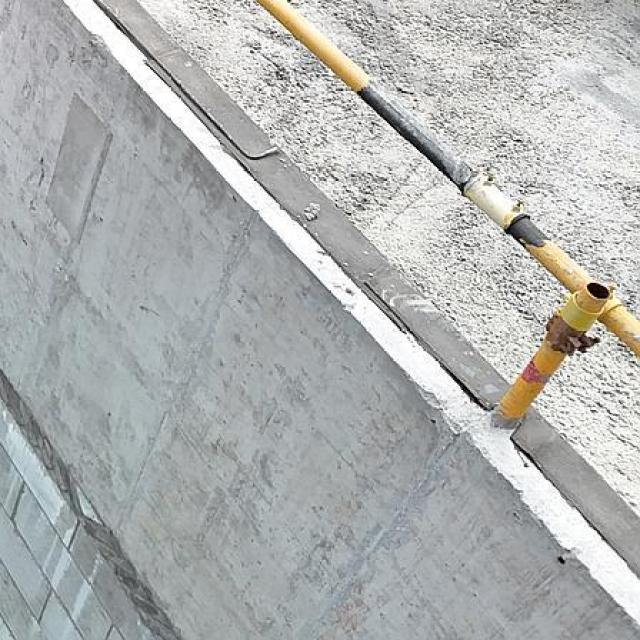edge_guardrail: (251, 0, 639, 434)
